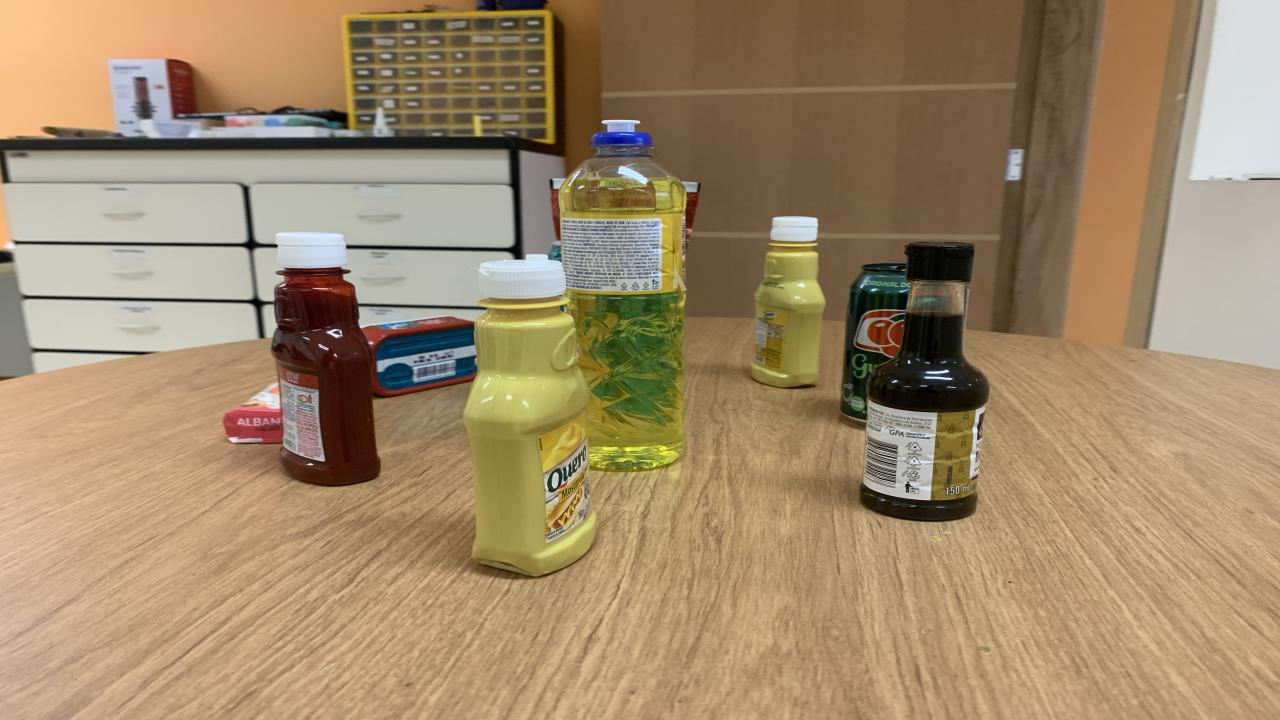Detergent-Cleanup_Items: (560, 120, 685, 471)
English_Sauce-Pantry_Items: (860, 242, 990, 519)
Guarana_Can-Drinks: (840, 262, 910, 426)
Ketchup-Pantry_Items: (272, 232, 380, 486)
Mustard-Pantry_Items: (465, 255, 595, 576), (752, 216, 825, 388)
Soap-Cleanup_Items: (222, 382, 282, 444)
Tea-Drinks: (548, 242, 562, 261)
Tomato_Sauce-Pantry_Items: (682, 182, 700, 261), (550, 178, 565, 248), (550, 248, 558, 257)
Tuna_Can-Pantry_Items: (362, 317, 478, 396)
